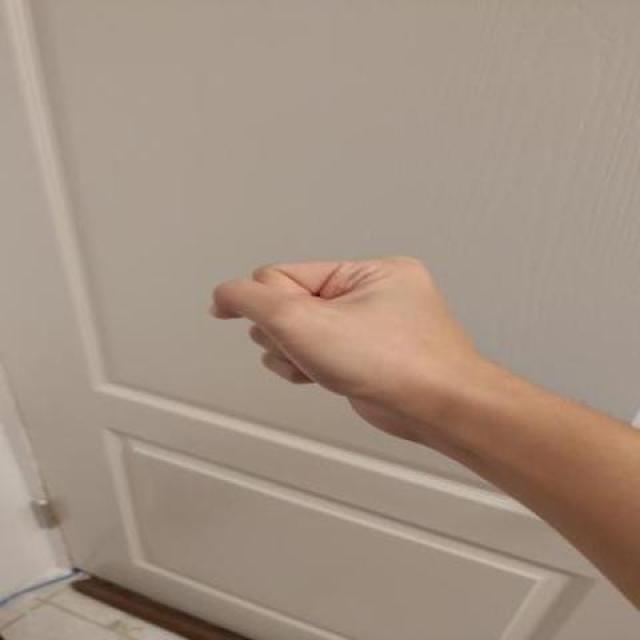fist: (209, 252, 452, 440)
